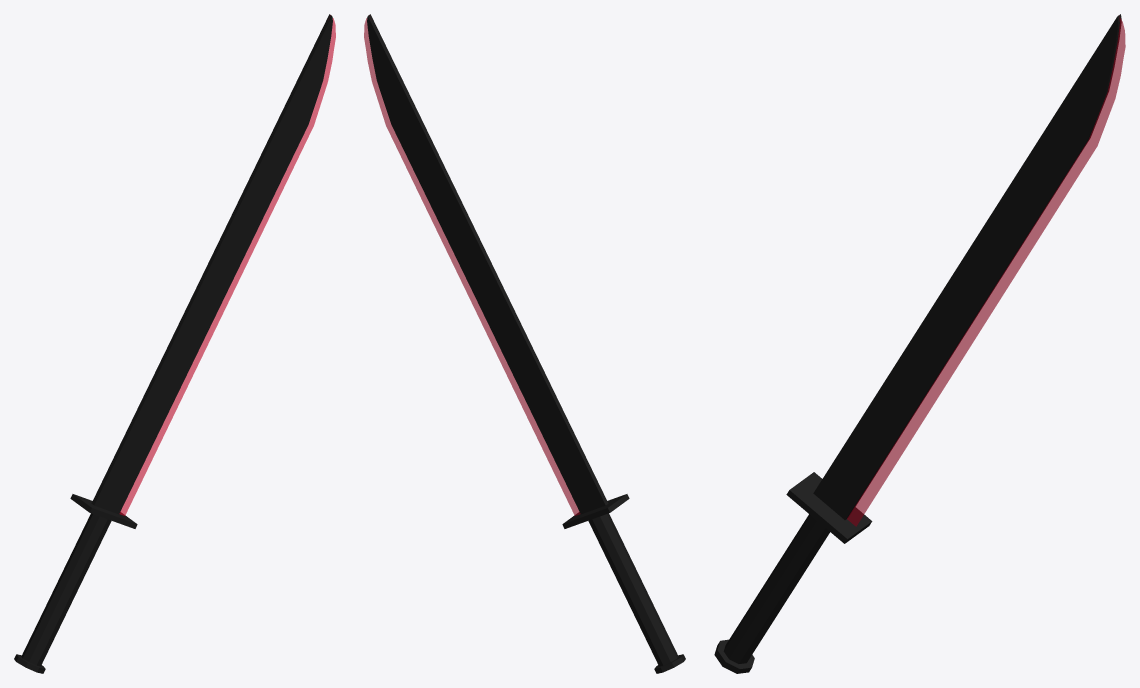
File: Laser sword.fbx
The picture shows the model from 3 angles, left to right: view 1: azimuth 30°, elevation 25°; view 2: azimuth 150°, elevation 25°; view 3: azimuth 330°, elevation 25°; orthographic projection. The views are drawn at different scales.
Parts seen in each view (by area): view 1: Sword, Blade; view 2: Sword, Blade; view 3: Sword, Blade.
Part boxes in pixels (box(x1,y1,x2,y2)): Sword: box(14, 14, 332, 673); Blade: box(119, 15, 335, 515); Sword: box(367, 14, 685, 673); Blade: box(364, 15, 580, 515); Sword: box(714, 14, 1121, 673); Blade: box(847, 17, 1125, 526).
Size of the model in its own units: 66.82 by 117 by 7.
